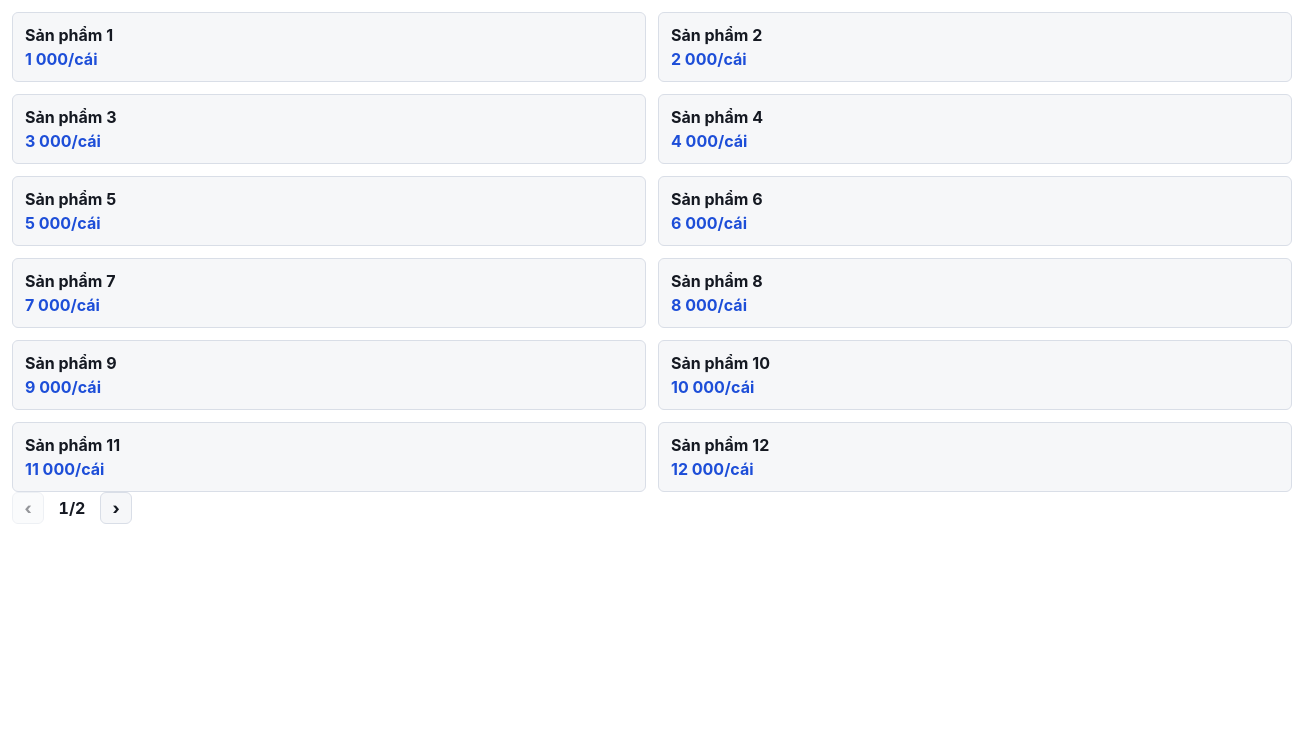
Scenario: paginates quick products by 12 items per page
This screenshot has width=1304, height=732.
Expected: the button "Sản phẩm 1 1 000/cái" is shown, [12, 12, 646, 82]
Expected: the button "Sản phẩm 13 13 000/cái" is not shown
Click the button named "Trang sau sản phẩm nhanh": [116, 508] box [100, 492, 132, 524]
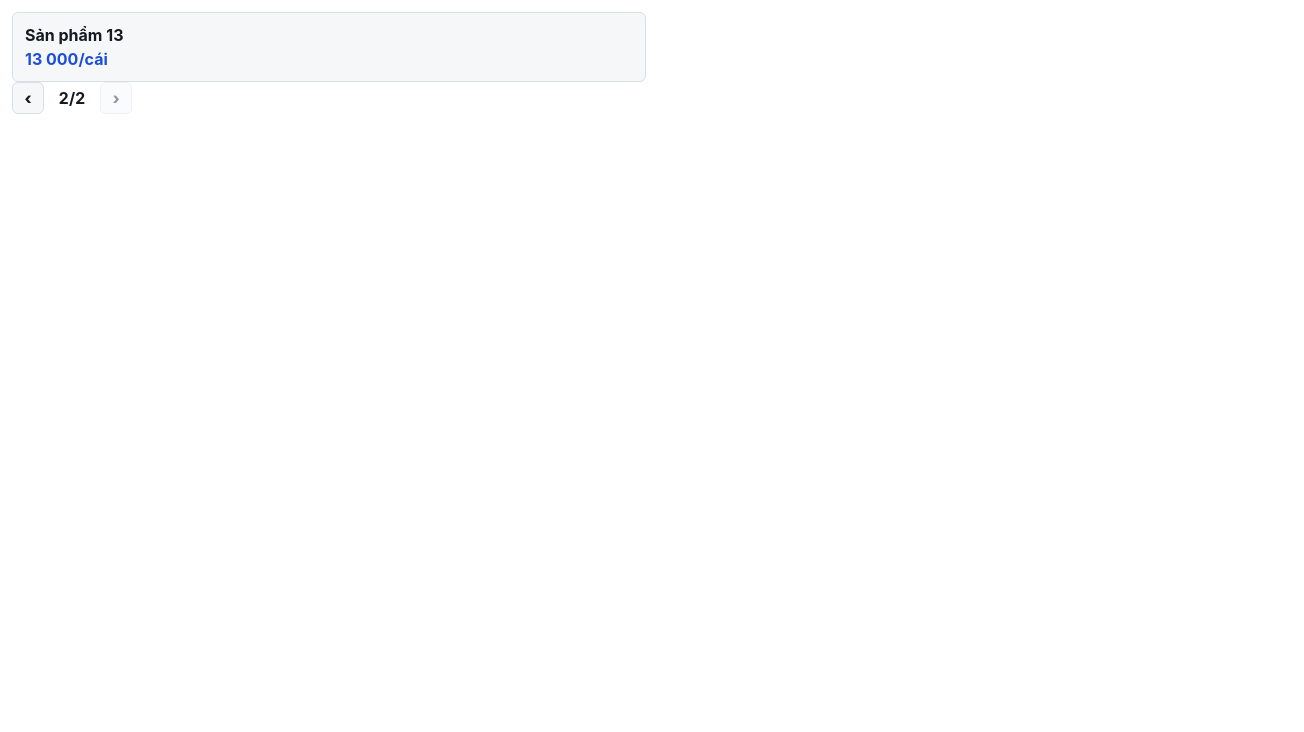
Result: the button "Sản phẩm 13 13 000/cái" is shown at [12, 12, 646, 82]
Result: the button "Sản phẩm 1 1 000/cái" is gone
Result: the text "2/2" is shown at [58, 88, 85, 108]
